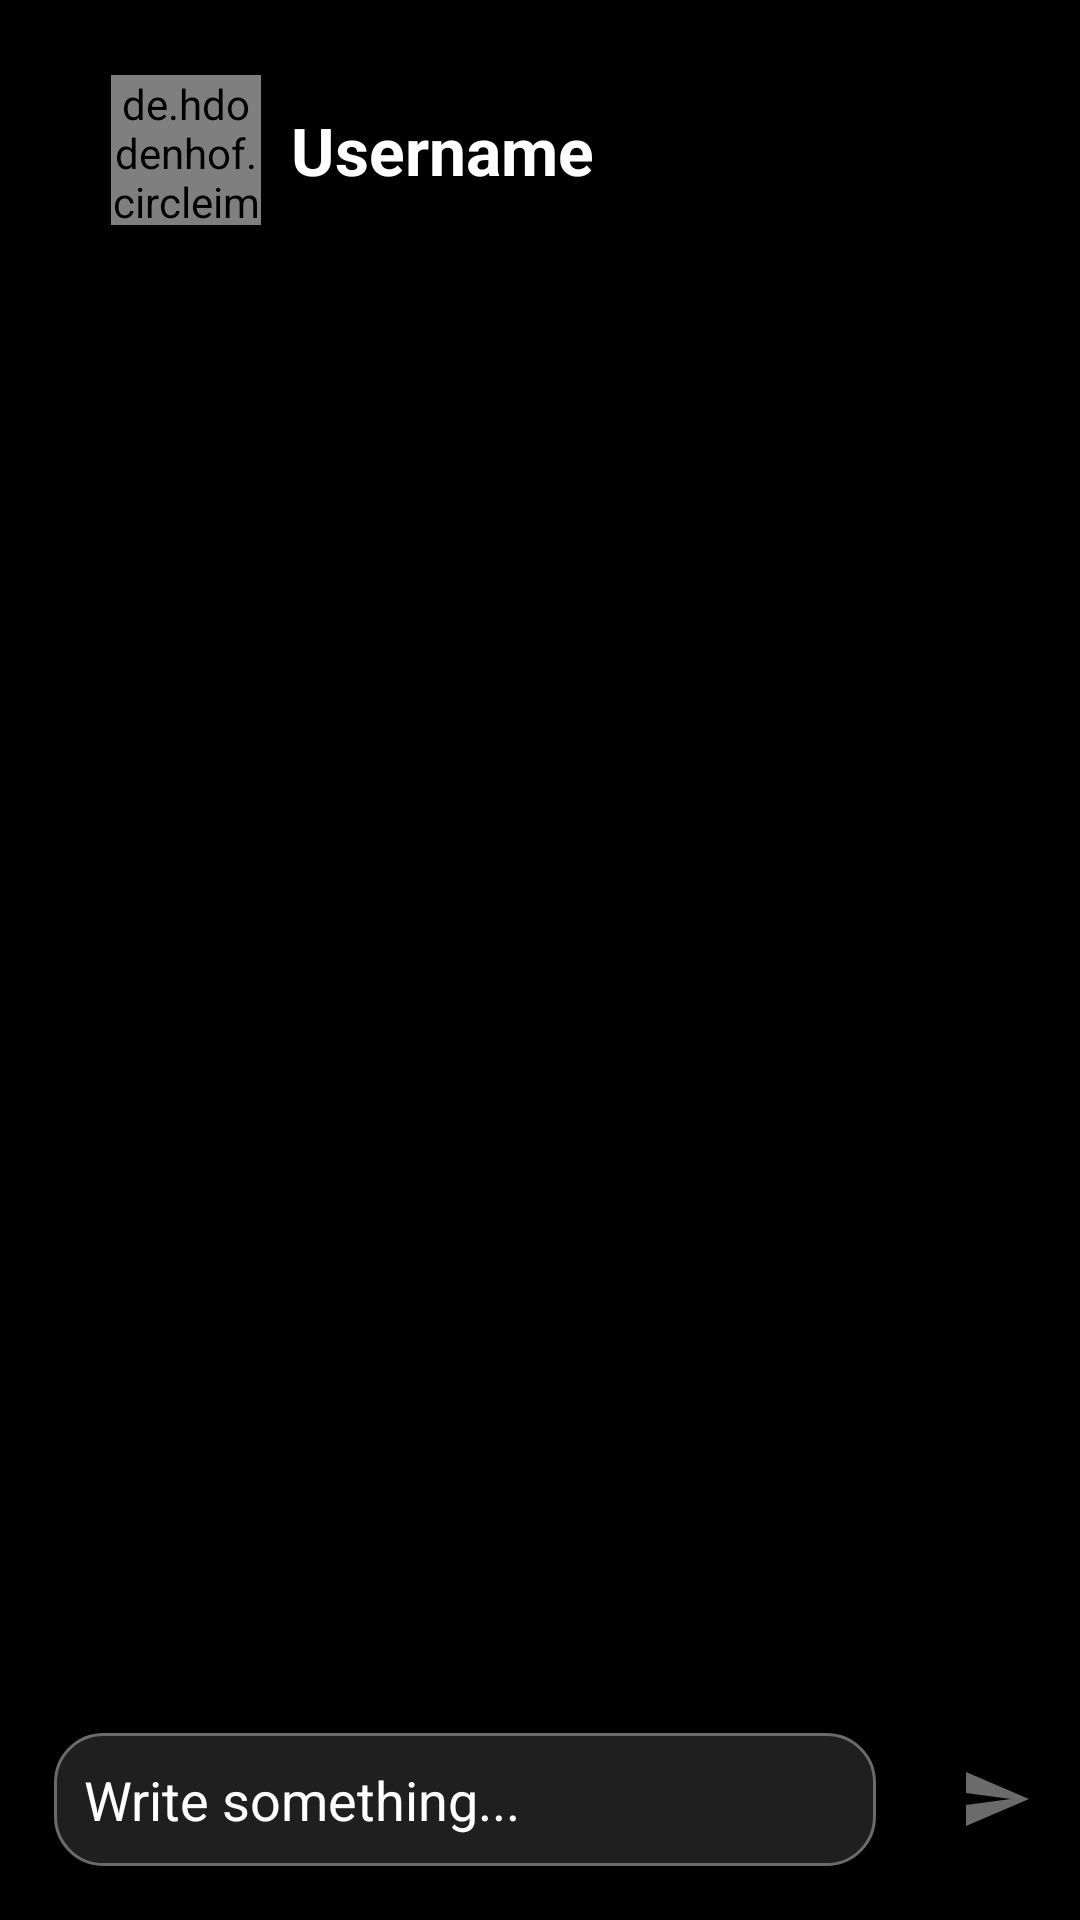

Screen size 1080x1920. Icon name, then its box in pixels as (x1, y1, x2, y2):
send: (966, 1772, 1028, 1826)
